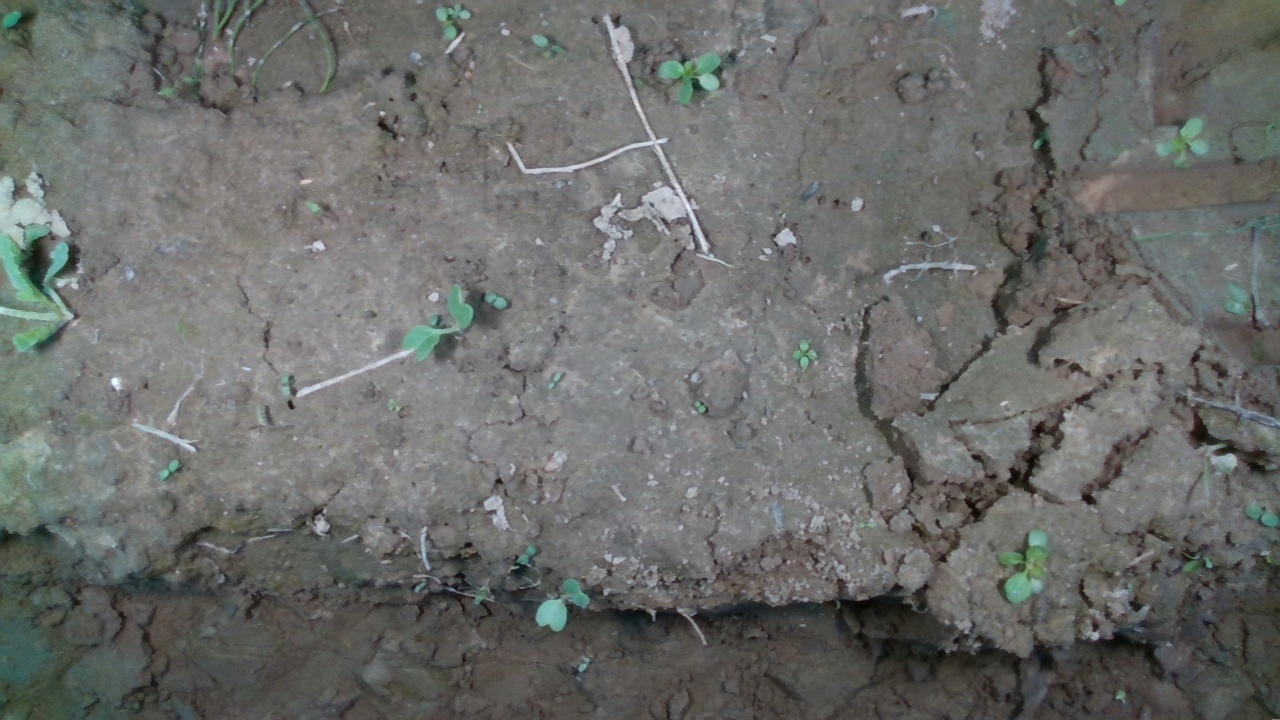weed: (653, 50, 722, 104), (787, 336, 819, 370), (481, 289, 506, 311)
